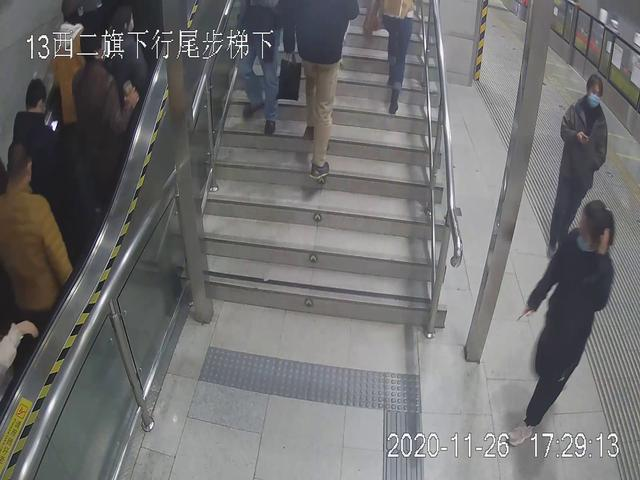person: (504, 197, 616, 445), (1, 137, 80, 345), (278, 1, 361, 186), (66, 33, 135, 206), (551, 70, 612, 201), (379, 1, 419, 113)
